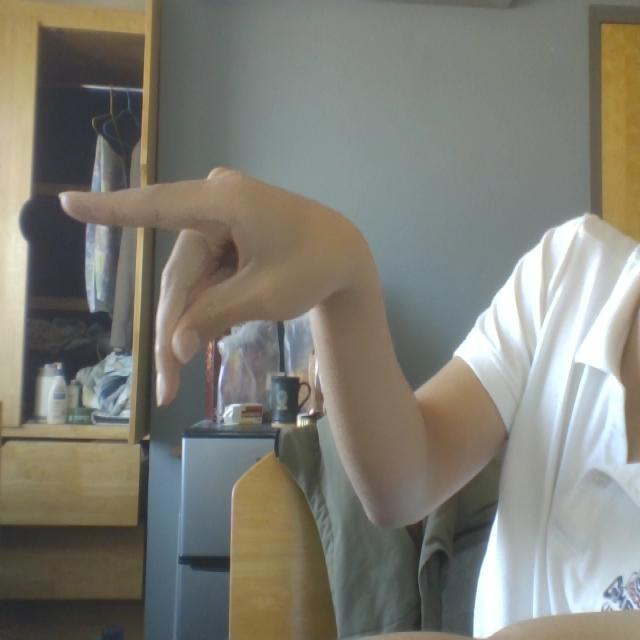P: (46, 135, 429, 416)
